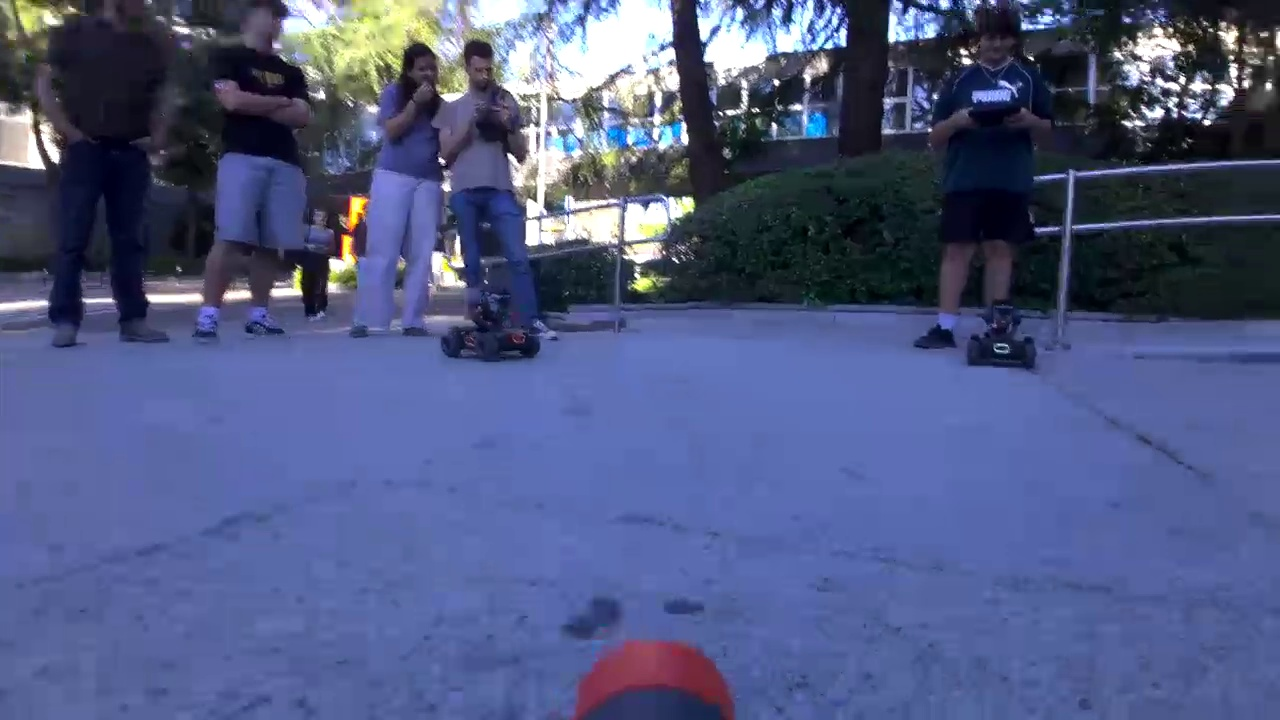robot: (446, 276, 537, 370), (963, 295, 1036, 381)
